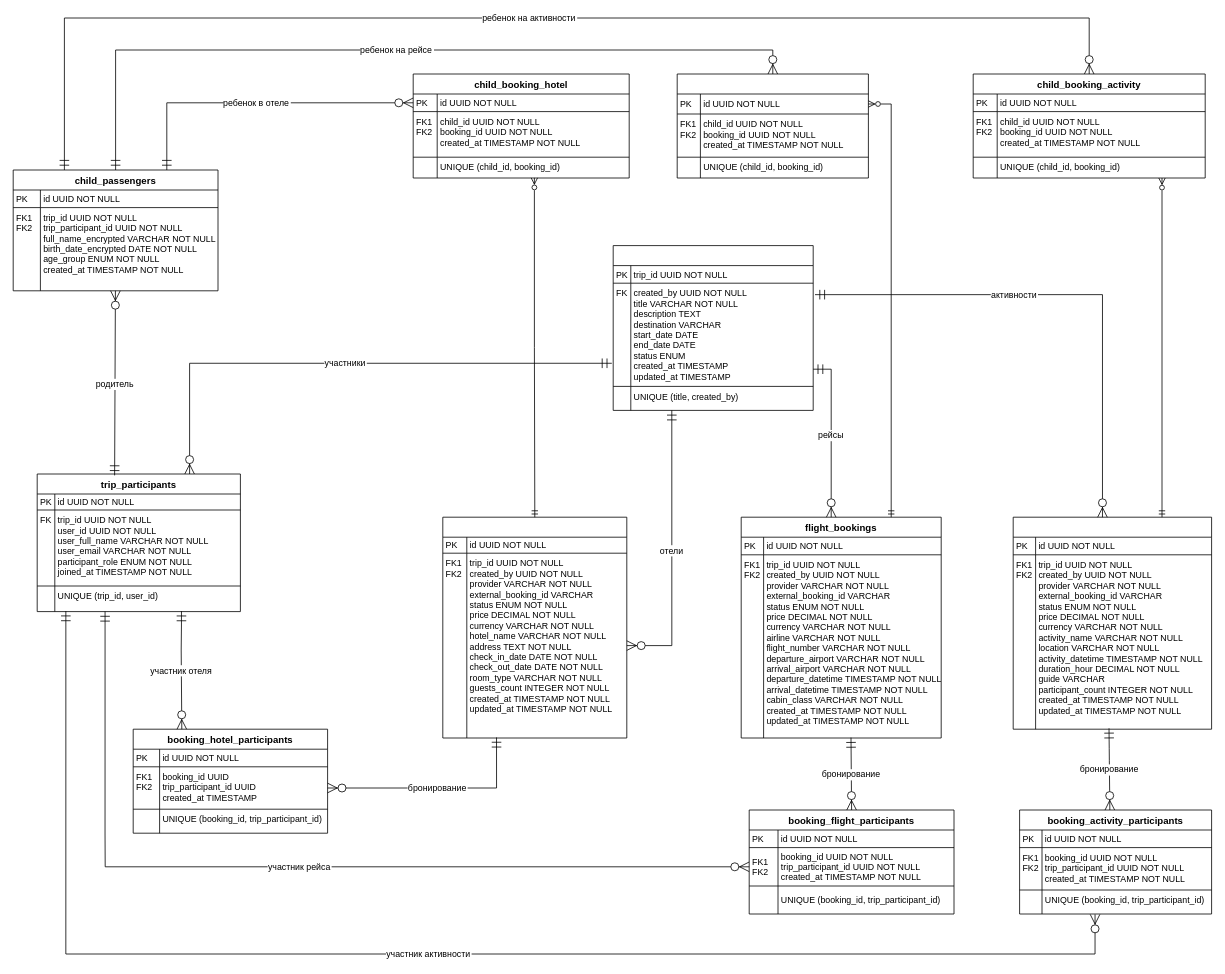
This 1225x974 diagram has some shape labels left out. The shapes that lost their labels are listed below. From the top down, each one's box as (x1, y1, x2, y2) in pixels, then its label:
(676, 73, 868, 178): child_booking_flight
(612, 245, 813, 410): trips
(442, 516, 627, 738): hotel_bookings
(1012, 516, 1212, 729): activity_bookings
